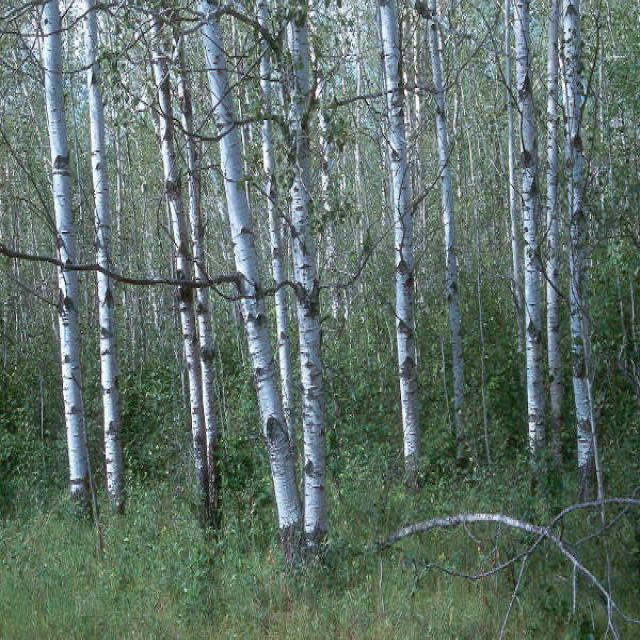Populus tremuloides: (192, 0, 352, 554), (119, 0, 241, 534), (56, 0, 170, 529), (0, 0, 100, 519), (351, 0, 428, 497), (419, 0, 468, 489), (510, 0, 554, 470), (559, 0, 598, 474), (544, 4, 568, 477)
